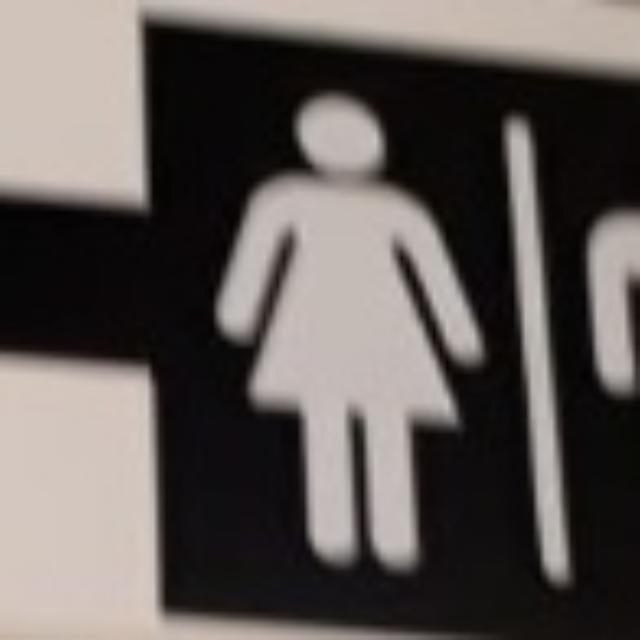womens_restroom: (216, 91, 483, 568)
